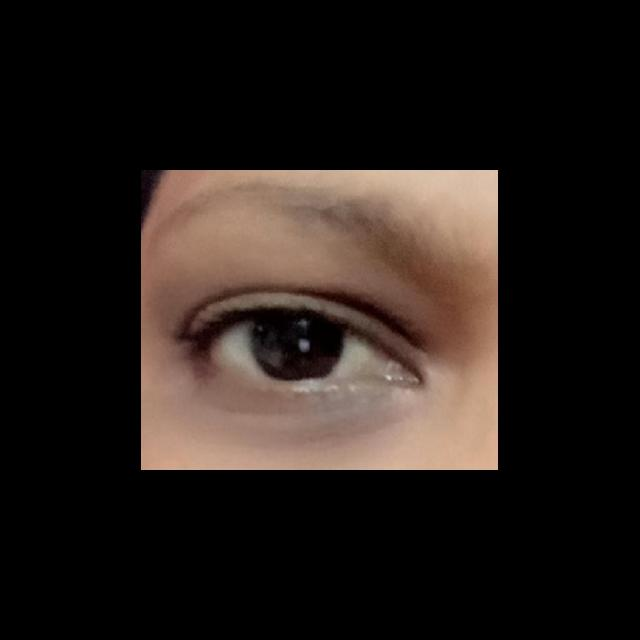eye: (206, 308, 396, 384)
iris: (252, 312, 345, 380)
